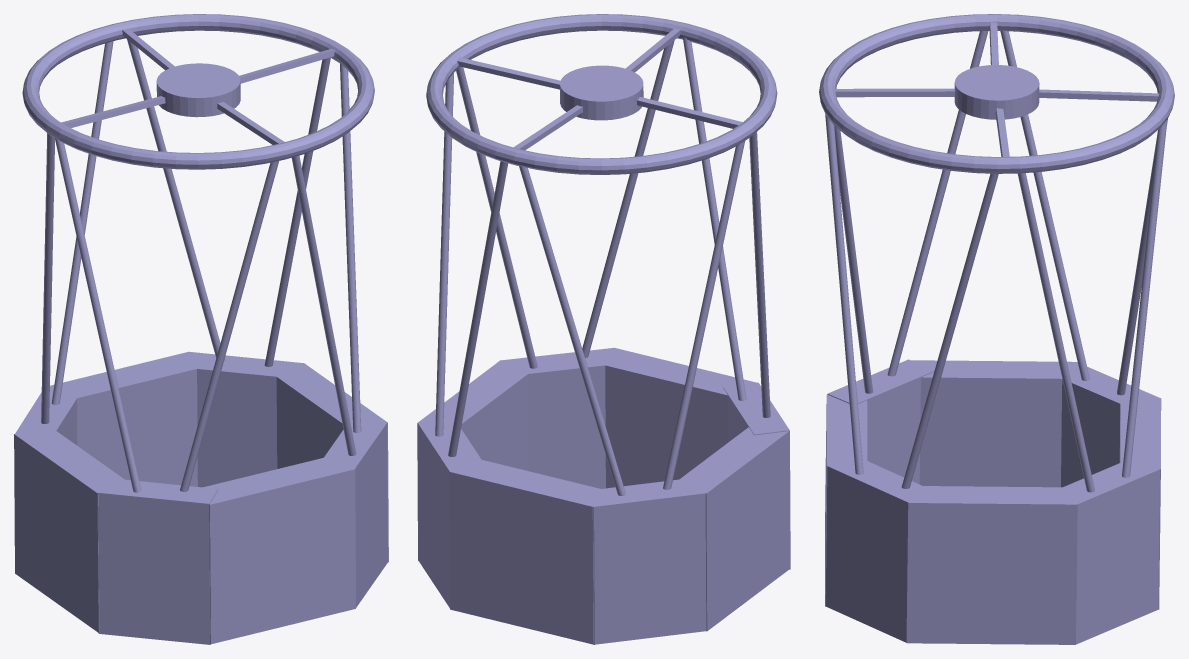
File: pw1000-barrel-allone.glb
The picture shows the model from 3 angles, left to right: view 1: azimuth 30°, elevation 25°; view 2: azimuth 150°, elevation 25°; view 3: azimuth 270°, elevation 25°; orthographic projection.
Parts seen in each view (by area): view 1: Cylinder.001; view 2: Cylinder.001; view 3: Cylinder.001.
Boxes of the visible parts, x1,y1,x2,y2 form: Cylinder.001: [14, 14, 388, 644]; Cylinder.001: [417, 14, 790, 644]; Cylinder.001: [819, 14, 1174, 644].
Size of the model in its own units: 8.4 by 12.81 by 8.4.
